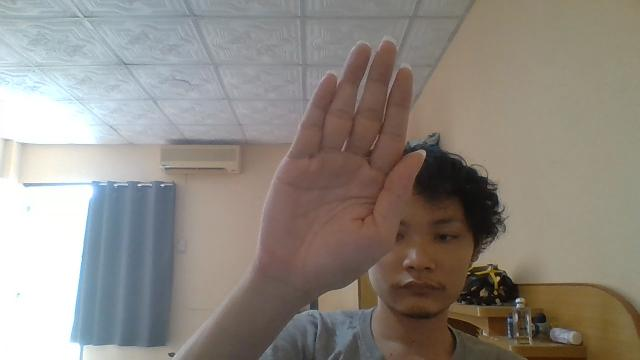Stop: (254, 37, 426, 299)
